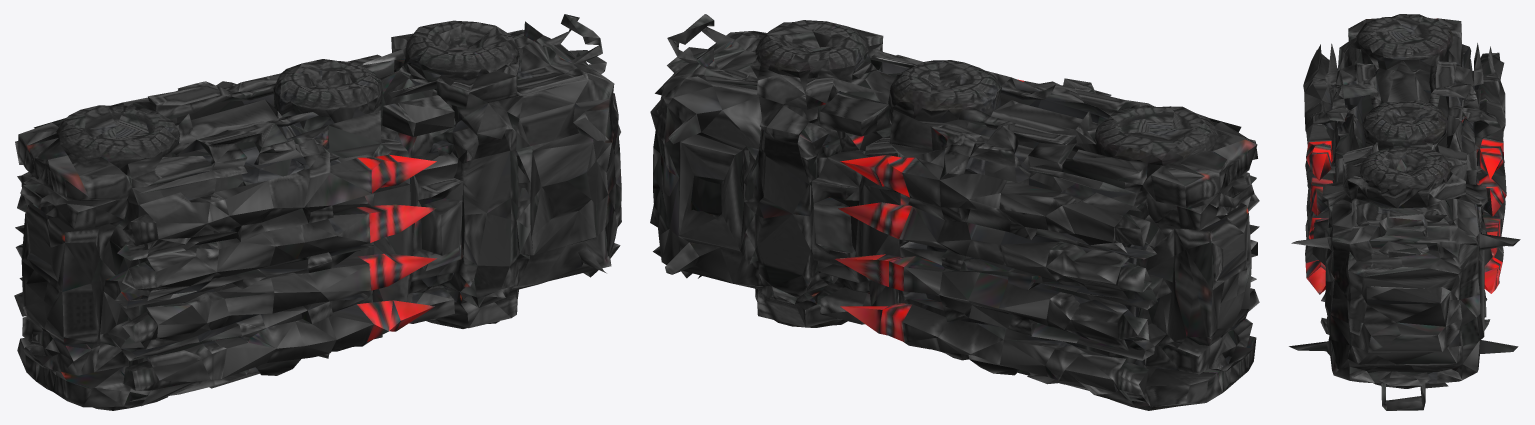
Rendered from fh_ground_sam_meshy.glb.
3 renders of one model, left to right at view 1: azimuth 30°, elevation 25°; view 2: azimuth 150°, elevation 25°; view 3: azimuth 270°, elevation 25°, orthographic. The views are drawn at different scales.
Parts seen in each view (by area): view 1: GLTF; view 2: GLTF; view 3: GLTF.
Part boxes in pixels (x1,y1,x2,y2): GLTF: [14, 14, 621, 410]; GLTF: [650, 14, 1259, 410]; GLTF: [1289, 14, 1520, 410].
Size of the model in its own units: 1 by 0.4547 by 0.4477.
1 material, 1 textured.
